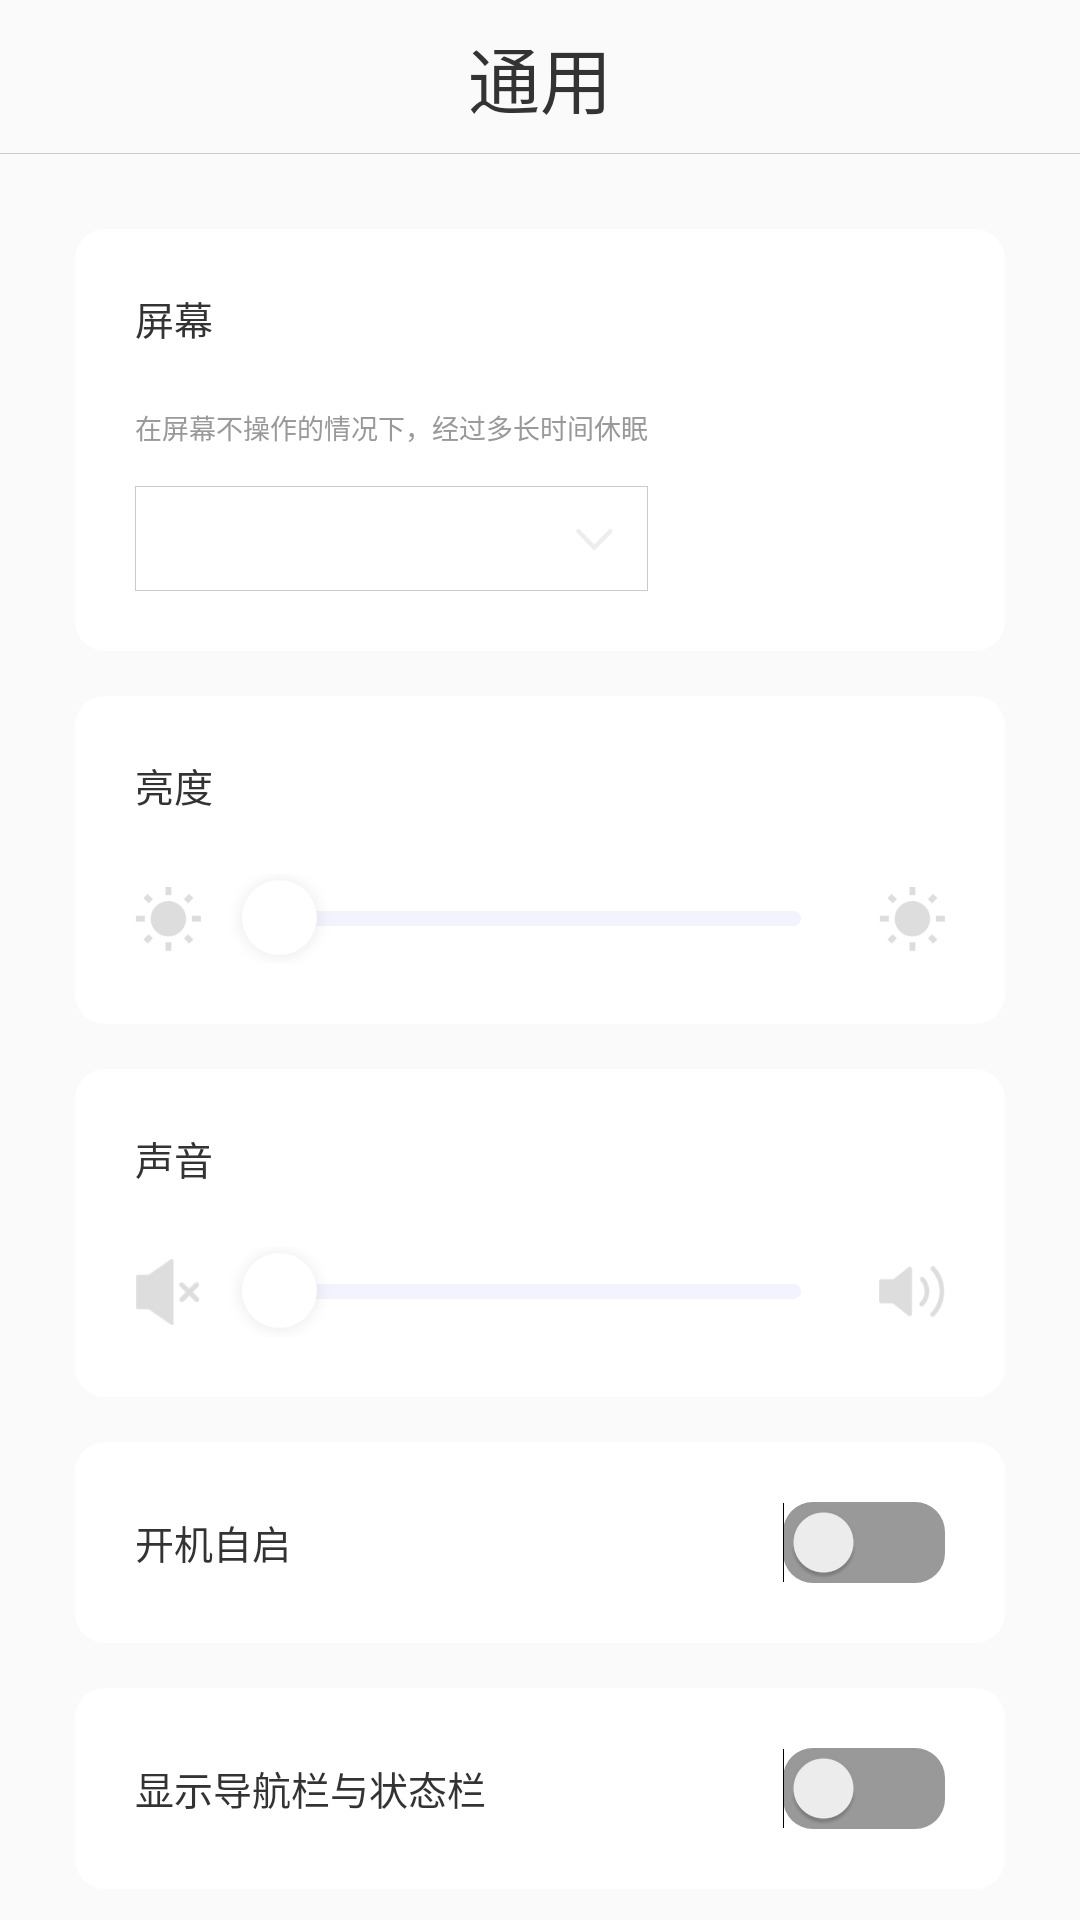

Named icons in this screenshot (1080x1920) and their centers, (x=x, y=y):
sound forbid: (x=167, y=1292)
sound open: (x=911, y=1291)
